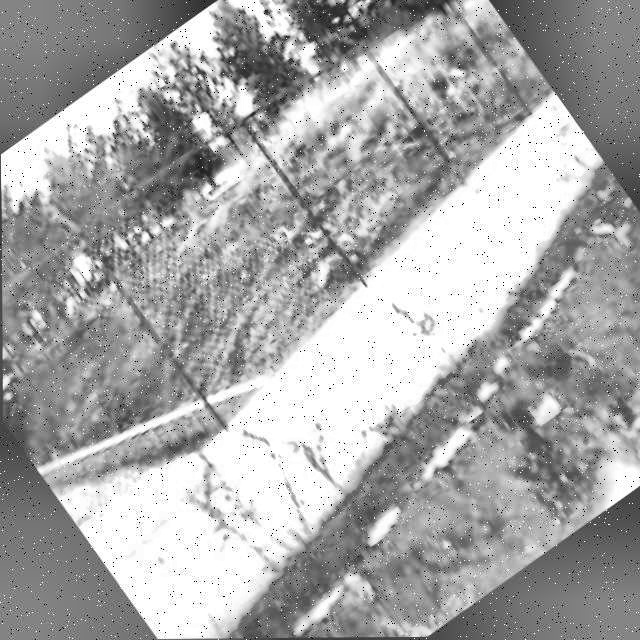Fire: (555, 362, 640, 502)
